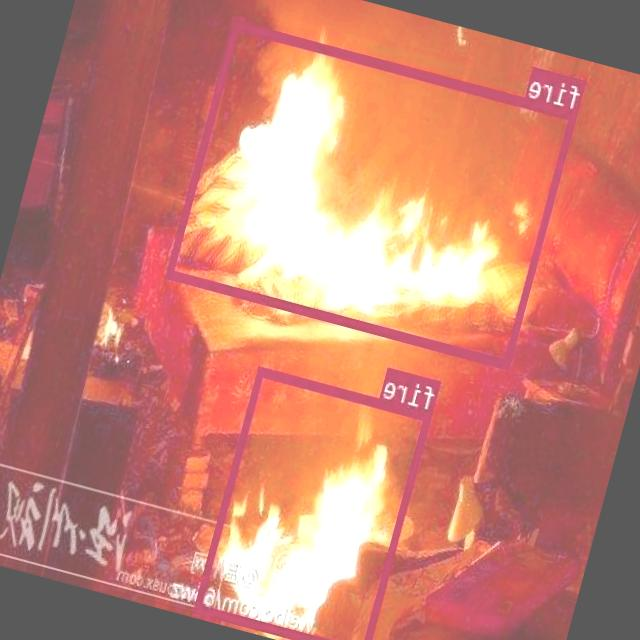fire: (166, 20, 579, 369), (194, 364, 434, 640)
